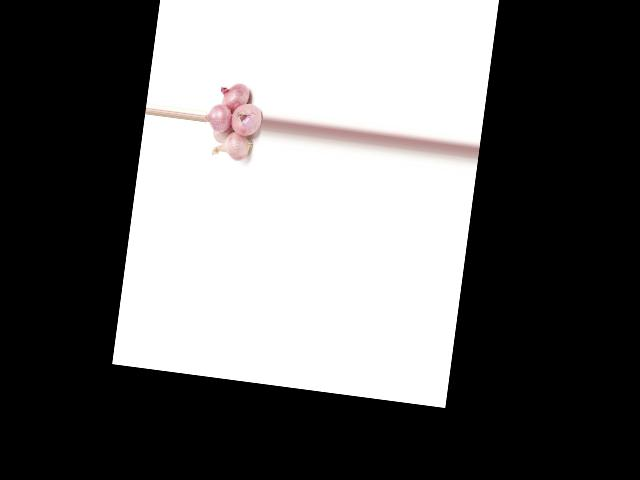onion: (228, 101, 264, 144)
